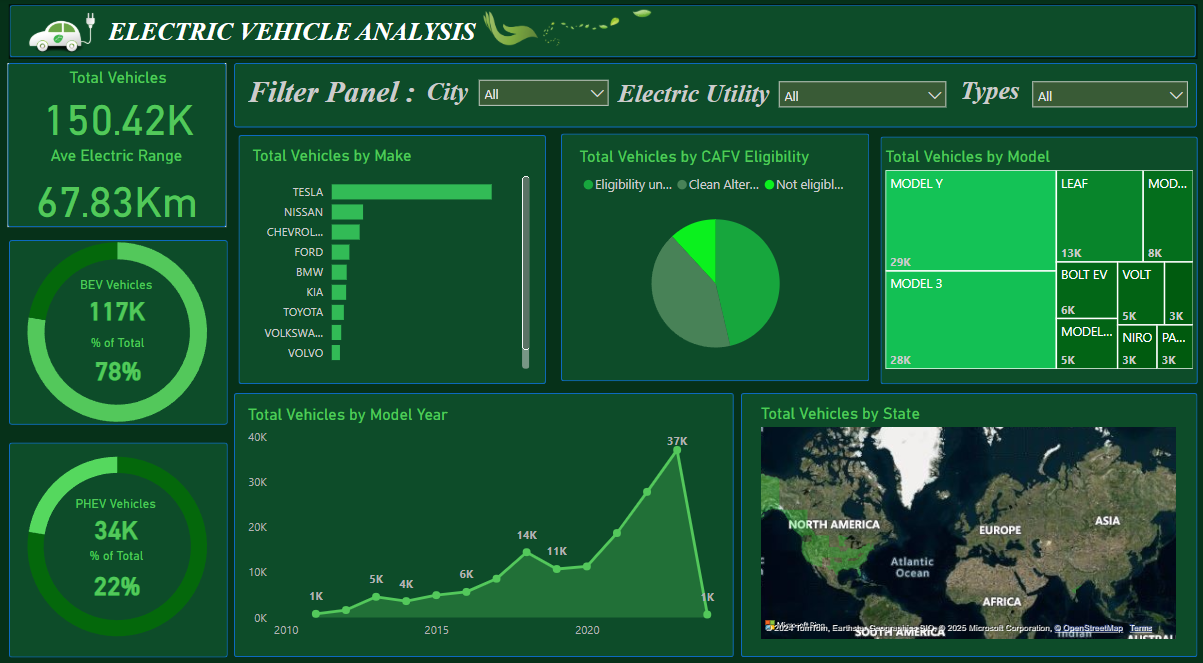

What the dashboard file says about the page in this screenshot:
{"tool":"powerbi","page":{"name":"Page 1","canvas":[1280,720],"ordinal":0},"visuals":[{"type":"shape","box":[9.5,8,1259.8,57.3],"z":0},{"type":"textbox","box":[109.8,15.9,440.6,41.4],"z":1000},{"type":"shape","box":[8,70,232,174],"z":2000},{"type":"card","title":"Total Vehicles","fields":{"Values":["Electric_Vehicle_Population_Data.Total Vehicles"]},"box":[23.9,74.8,202,82.7],"z":3000},{"type":"card","title":"Ave Electric Range","fields":{"Values":["Electric_Vehicle_Population_Data.Avg Range"]},"box":[20.7,157.5,205.2,90.7],"z":4000},{"type":"shape","box":[10,258,232,196],"z":5000},{"type":"donutChart","fields":{"Category":["Electric_Vehicle_Population_Data.Electric Vehicle Type"],"Y":["Electric_Vehicle_Population_Data.Total Vehicles"]},"box":[0,218,248,274],"z":6000},{"type":"card","title":"BEV Vehicles","fields":{"Values":["Electric_Vehicle_Population_Data.BEV Vehicles"]},"box":[54,298,138,54],"z":7000},{"type":"card","title":"% of Total","fields":{"Values":["Electric_Vehicle_Population_Data.% Of BEV"]},"box":[56,360,138,56],"z":8000},{"type":"shape","box":[10,472,232,228],"z":9000},{"type":"donutChart","fields":{"Category":["Electric_Vehicle_Population_Data.Electric Vehicle Type"],"Y":["Electric_Vehicle_Population_Data.Total Vehicles"]},"box":[0,446,248,274],"z":10000},{"type":"card","title":"PHEV Vehicles","fields":{"Values":["Electric_Vehicle_Population_Data.PHEV Vehicles"]},"box":[52,530,140,54],"z":11000},{"type":"card","title":"% of Total","fields":{"Values":["Electric_Vehicle_Population_Data.% of PHEV"]},"box":[44,586,158,60],"z":12000},{"type":"shape","box":[248.1,70,1021.2,68.4],"z":13000},{"type":"shape","box":[248,420,530,280],"z":14000},{"type":"areaChart","fields":{"Category":["Electric_Vehicle_Population_Data.Model Year"],"Y":["Electric_Vehicle_Population_Data.Total Vehicles"]},"box":[258,432,510,256],"z":15000},{"type":"shape","box":[786,420,484,280],"z":16000},{"type":"filledMap","fields":{"Category":["Electric_Vehicle_Population_Data.State"]},"box":[802.3,431.8,450,254.5],"z":17000},{"type":"shape","box":[252.9,146.3,326.1,264],"z":18000},{"type":"barChart","fields":{"Y":["Electric_Vehicle_Population_Data.Total Vehicles"],"Category":["Electric_Vehicle_Population_Data.Make"]},"box":[262.5,157.5,303.8,241.8],"z":19000},{"type":"shape","box":[595.3,145.5,326.9,262.7],"z":20000},{"type":"shape","box":[933.6,147.4,336.4,262.7],"z":21000},{"type":"pieChart","title":"Total Vehicles by CAFV Eligibility","fields":{"Category":["Electric_Vehicle_Population_Data.Clean Alternative Fuel Vehicle (CAFV) Eligibility"],"Y":["Electric_Vehicle_Population_Data.Total Vehicles"]},"box":[608.5,158.7,298.6,240],"z":22000},{"type":"treemap","fields":{"Group":["Electric_Vehicle_Population_Data.Model"],"Values":["Electric_Vehicle_Population_Data.Total Vehicles"]},"box":[933.6,158.7,336.4,240],"z":23000},{"type":"textbox","box":[639.4,81.1,192.5,50.9],"z":24000},{"type":"slicer","fields":{"Values":["Electric_Vehicle_Population_Data.City"]},"box":[497.9,77.9,157.5,55.7],"z":25000},{"type":"textbox","box":[447,79.5,119.3,41.4],"z":26000},{"type":"slicer","fields":{"Values":["Electric_Vehicle_Population_Data.Electric Utility"]},"box":[816,79.5,197.2,49.3],"z":27000},{"type":"textbox","box":[257.7,76.3,203.6,47.7],"z":28000},{"type":"slicer","fields":{"Values":["Electric_Vehicle_Population_Data.Electric Vehicle Type"]},"box":[1084.8,79.5,184.5,49.3],"z":29000},{"type":"textbox","box":[1013.2,77.9,112.9,60.4],"z":30000},{"type":"image","box":[0,0,122.5,74.8],"z":31000},{"type":"image","box":[497.9,8,270.4,49.3],"z":31001},{"type":"image","box":[507.4,0,70,65.2],"z":31002}]}

Visuals, with their boxes in screenshot pixels (x1, y1, x2, y2), scaled from the page's 1280x720 canvas onto the 1203x663 screenshot:
shape: (x1=9, y1=7, x2=1193, y2=60)
textbox: (x1=103, y1=15, x2=517, y2=53)
shape: (x1=8, y1=64, x2=226, y2=225)
"Total Vehicles" card: (x1=22, y1=69, x2=212, y2=145)
"Ave Electric Range" card: (x1=19, y1=145, x2=212, y2=229)
shape: (x1=9, y1=238, x2=227, y2=418)
donutChart - Electric_Vehicle_Population_Data.Electric Vehicle Type x Electric_Vehicle_Population_Data.Total Vehicles: (x1=0, y1=201, x2=233, y2=453)
"BEV Vehicles" card: (x1=51, y1=274, x2=180, y2=324)
"% of Total" card: (x1=53, y1=332, x2=182, y2=383)
shape: (x1=9, y1=435, x2=227, y2=645)
donutChart - Electric_Vehicle_Population_Data.Electric Vehicle Type x Electric_Vehicle_Population_Data.Total Vehicles: (x1=0, y1=411, x2=233, y2=662)
"PHEV Vehicles" card: (x1=49, y1=488, x2=180, y2=538)
"% of Total" card: (x1=41, y1=540, x2=190, y2=595)
shape: (x1=233, y1=64, x2=1193, y2=127)
shape: (x1=233, y1=387, x2=731, y2=645)
areaChart - Electric_Vehicle_Population_Data.Model Year x Electric_Vehicle_Population_Data.Total Vehicles: (x1=242, y1=398, x2=722, y2=634)
shape: (x1=739, y1=387, x2=1194, y2=645)
filledMap - Electric_Vehicle_Population_Data.State: (x1=754, y1=398, x2=1177, y2=632)
shape: (x1=238, y1=135, x2=544, y2=378)
barChart - Electric_Vehicle_Population_Data.Total Vehicles x Electric_Vehicle_Population_Data.Make: (x1=247, y1=145, x2=532, y2=368)
shape: (x1=559, y1=134, x2=867, y2=376)
shape: (x1=877, y1=136, x2=1194, y2=378)
"Total Vehicles by CAFV Eligibility" pieChart: (x1=572, y1=146, x2=853, y2=367)
treemap - Electric_Vehicle_Population_Data.Model x Electric_Vehicle_Population_Data.Total Vehicles: (x1=877, y1=146, x2=1194, y2=367)
textbox: (x1=601, y1=75, x2=782, y2=122)
slicer - Electric_Vehicle_Population_Data.City: (x1=468, y1=72, x2=616, y2=123)
textbox: (x1=420, y1=73, x2=532, y2=111)
slicer - Electric_Vehicle_Population_Data.Electric Utility: (x1=767, y1=73, x2=952, y2=119)
textbox: (x1=242, y1=70, x2=434, y2=114)
slicer - Electric_Vehicle_Population_Data.Electric Vehicle Type: (x1=1020, y1=73, x2=1193, y2=119)
textbox: (x1=952, y1=72, x2=1058, y2=127)
image: (x1=0, y1=0, x2=115, y2=69)
image: (x1=468, y1=7, x2=722, y2=53)
image: (x1=477, y1=0, x2=543, y2=60)
